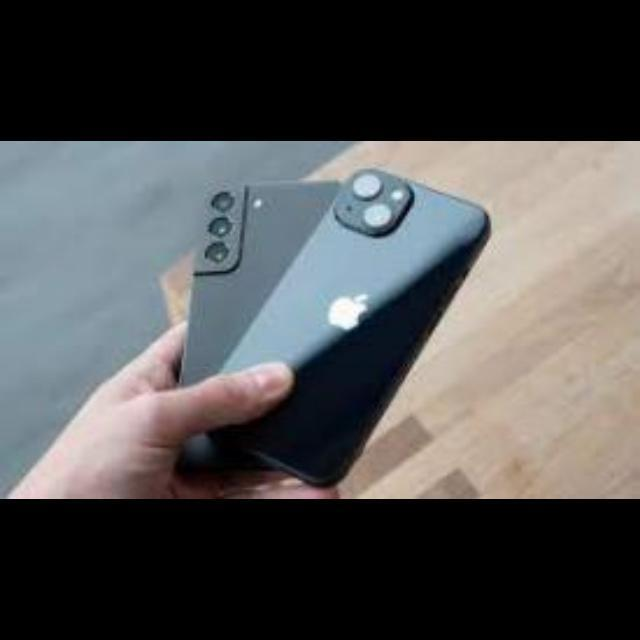phone: (203, 154, 541, 468), (177, 166, 343, 487)
